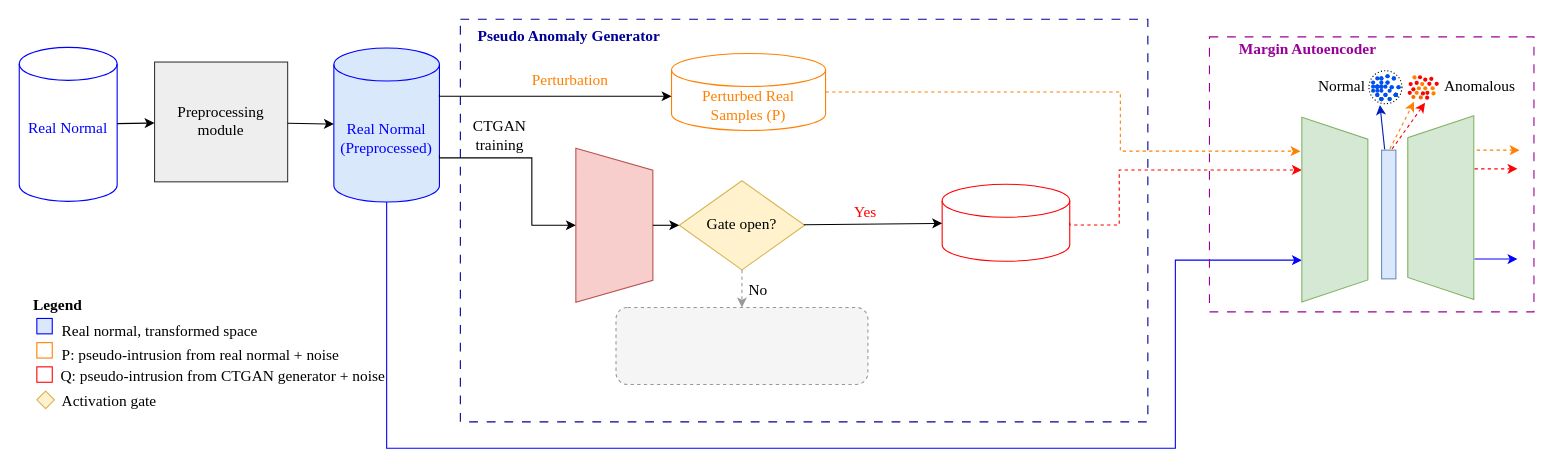
Some shapes in this 1553 by 476 pixel diagram are drawn without their labels. The centre of each missing label's shape, as x and y in pixels:
CTGAN: the point at 614,224
No → Q is NOT generated this epoch. Training pseudo-intrusion = P only: the point at 741,345
Perturbed CTGAN Samples (Q): the point at 1005,222
